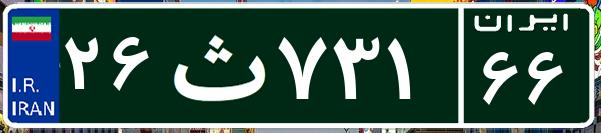1: (385, 28, 445, 110)
2: (57, 26, 110, 107)
3: (330, 28, 385, 110)
6: (475, 38, 525, 113), (110, 28, 158, 105), (525, 38, 570, 115)
7: (273, 28, 330, 110)
ث: (158, 15, 273, 115)
